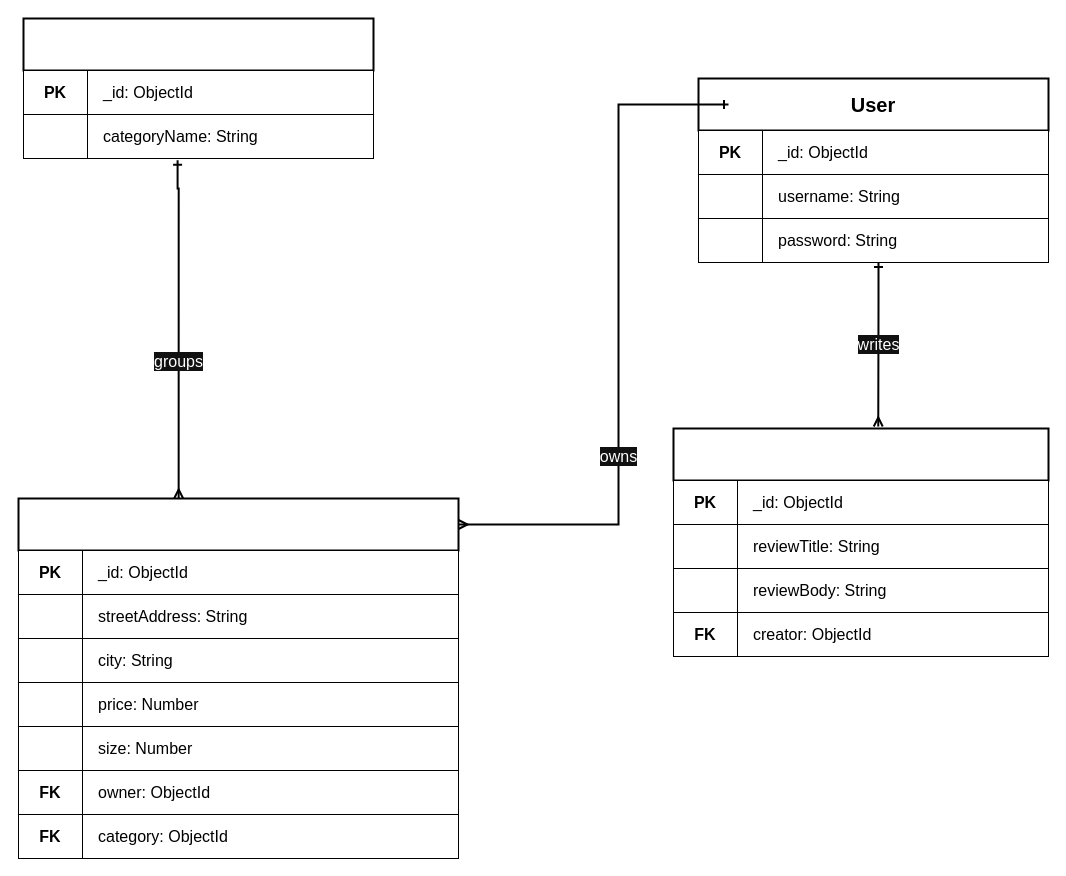
The diagram is 1066 pixels wide and 876 high, and some of its shapes have lost their labels. The centre of each missing label's shape, as x and y in pixels:
Category: the point at 198,44
Listing: the point at 238,524
Review: the point at 860,454
